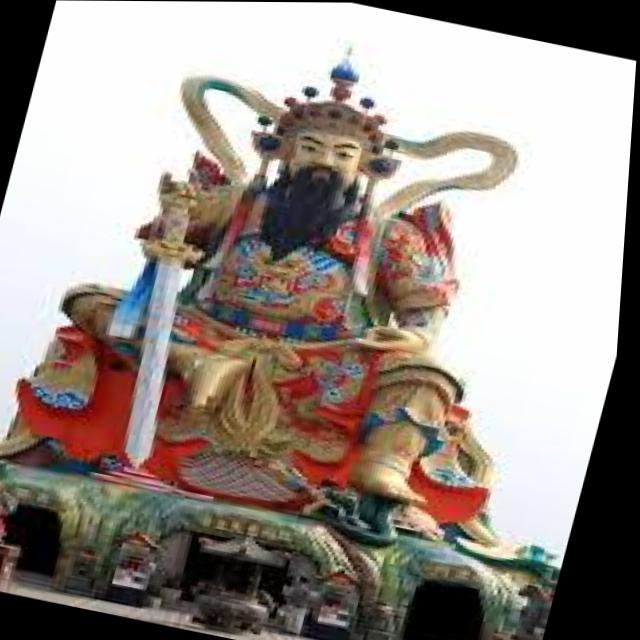Xuan wu: (64, 12, 559, 513)
